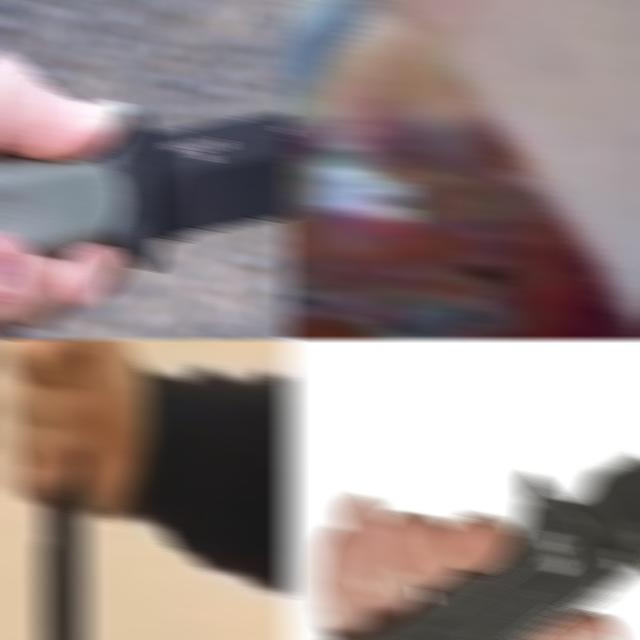Knife: (30, 338, 96, 640)
Knife_Handle: (283, 376, 640, 640), (283, 0, 576, 240), (0, 96, 293, 300), (4, 338, 150, 640)
